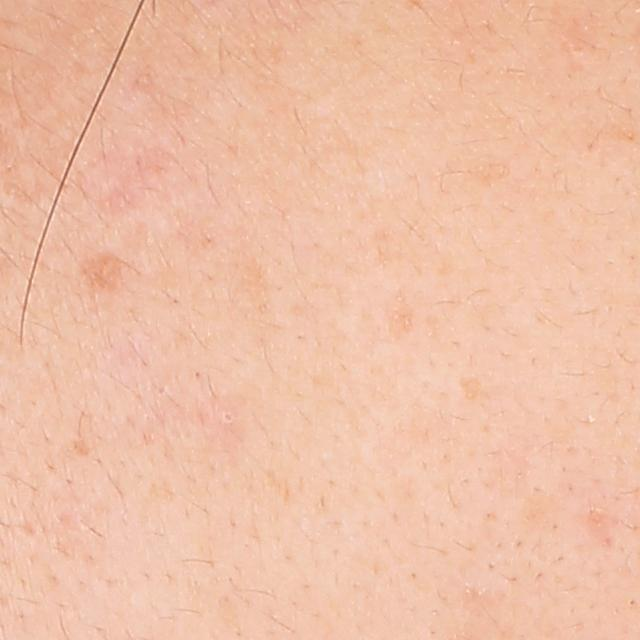comedo: (221, 409, 241, 427)
